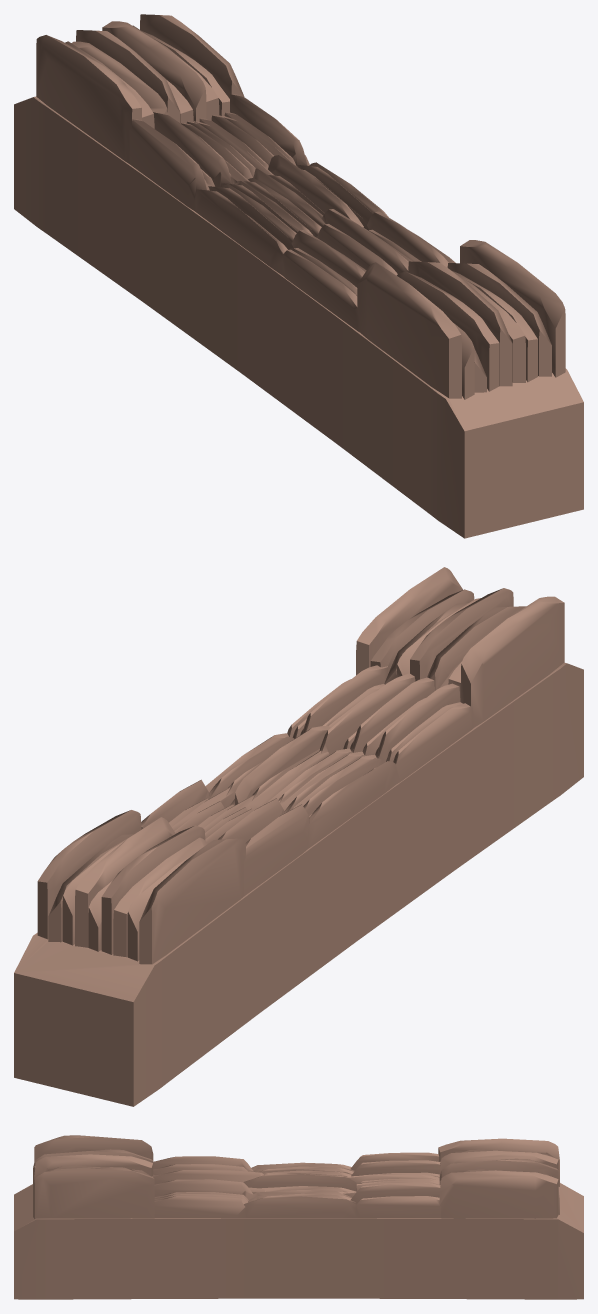
The model's file is camino.glb.
The picture shows the model from 3 angles, top to bottom: view 1: azimuth 30°, elevation 25°; view 2: azimuth 150°, elevation 25°; view 3: azimuth 270°, elevation 25°; orthographic projection. The views are drawn at different scales.
Parts seen in each view (by area): view 1: Camino; view 2: Camino; view 3: Camino.
Part boxes in pixels (bbox=[...]): Camino: bbox=[14, 14, 583, 538]; Camino: bbox=[14, 567, 583, 1106]; Camino: bbox=[14, 1135, 583, 1299].
Size of the model in its own units: 1 by 1.6 by 6.4.
